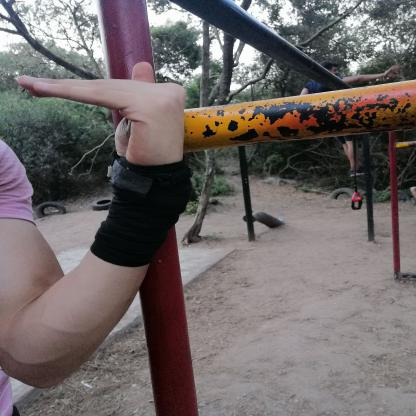KHAA: (4, 51, 206, 182)
